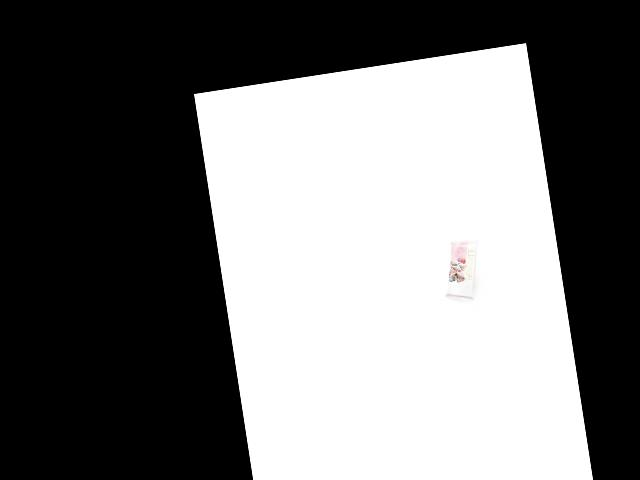chocolate: (436, 238, 486, 302)
